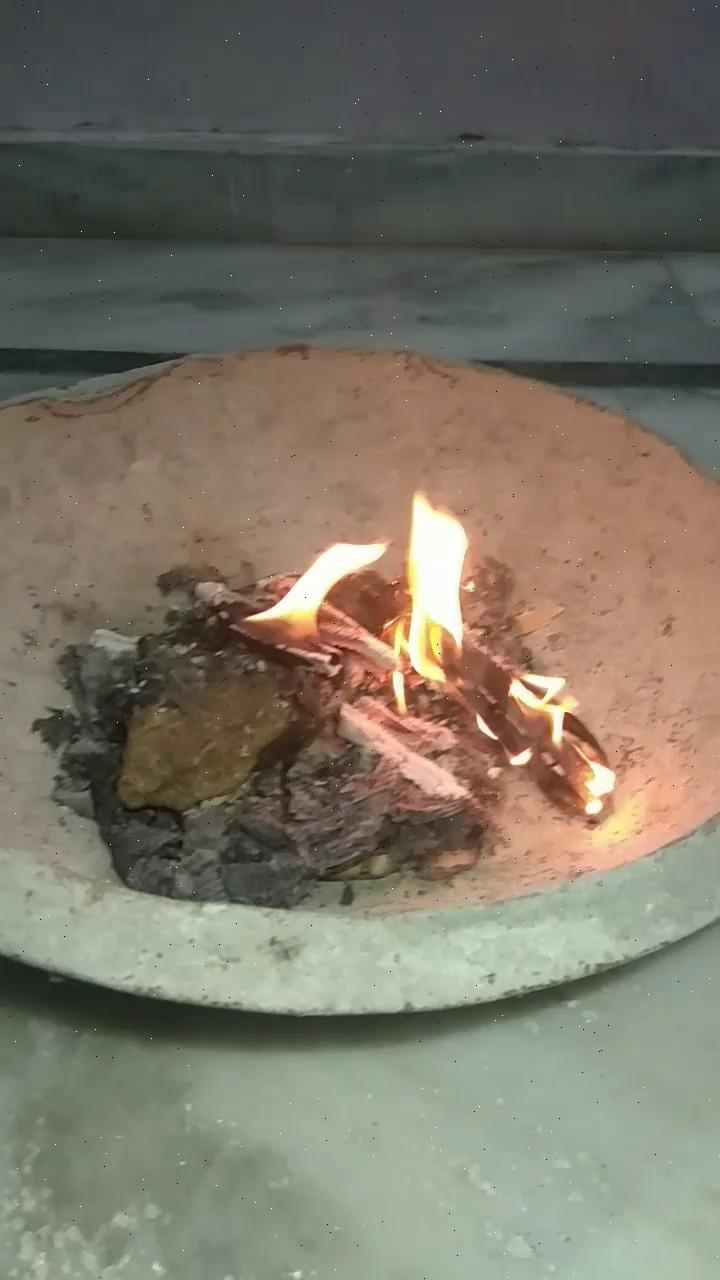fire: (210, 449, 612, 806)
